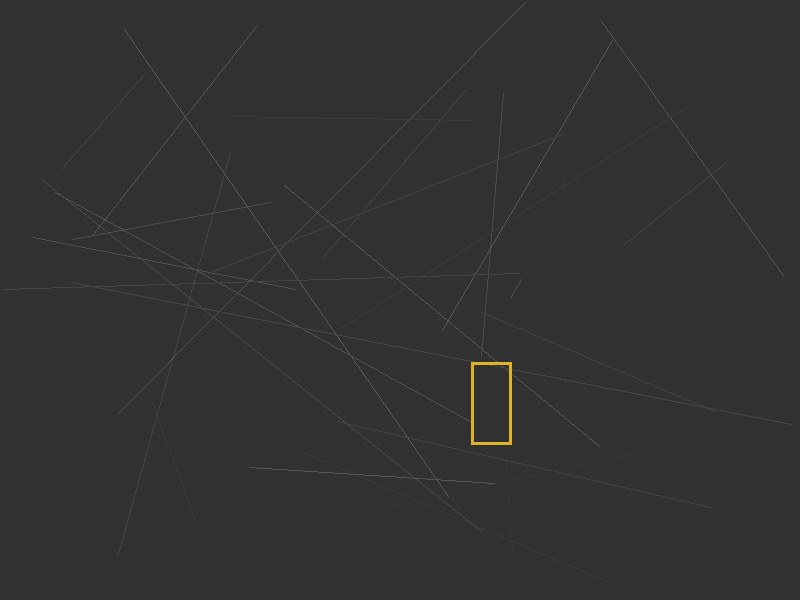D00: (471, 362, 511, 444)
